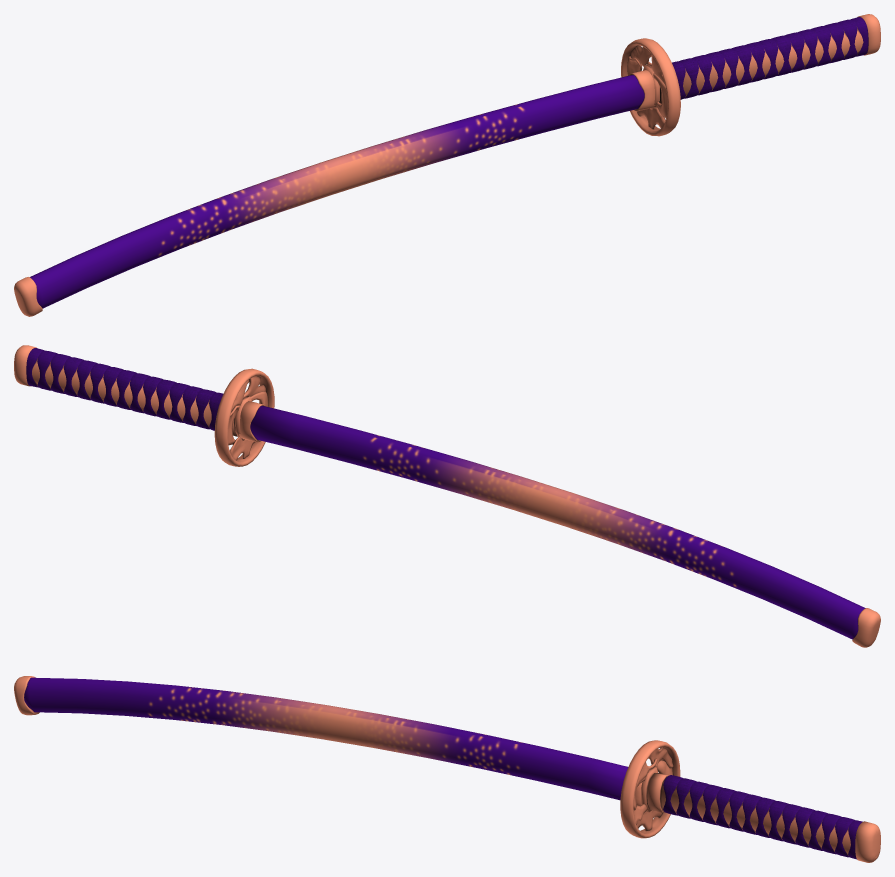
Rendered from Katana20.glb.
3 views of the same model, one above another, from view 1: azimuth 30°, elevation 25°; view 2: azimuth 150°, elevation 25°; view 3: azimuth 330°, elevation 25° (orthographic).
Parts seen in each view (by area): view 1: Uploads Files 54209 Tsuba.003, Uploads Files 54209 Tsuba.002; view 2: Uploads Files 54209 Tsuba.003, Uploads Files 54209 Tsuba.002; view 3: Uploads Files 54209 Tsuba.003, Uploads Files 54209 Tsuba.002.
Boxes of the visible parts, left/top/right/bottom form: Uploads Files 54209 Tsuba.003: left=14, top=70, right=655, bottom=316; Uploads Files 54209 Tsuba.002: left=621, top=14, right=880, bottom=136; Uploads Files 54209 Tsuba.003: left=239, top=401, right=880, bottom=647; Uploads Files 54209 Tsuba.002: left=14, top=345, right=274, bottom=466; Uploads Files 54209 Tsuba.003: left=14, top=676, right=642, bottom=806; Uploads Files 54209 Tsuba.002: left=620, top=740, right=880, bottom=862.
Size of the model in its own units: 1.01 by 0.1362 by 0.1006.
2 materials, 2 textured.
